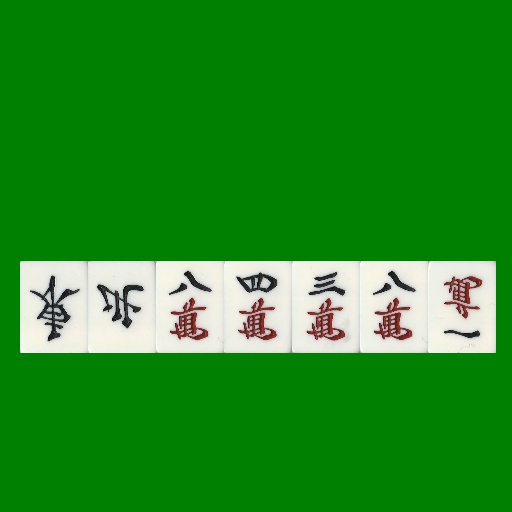1m: (428, 261, 496, 353)
3m: (292, 261, 360, 353)
4m: (224, 261, 292, 353)
8m: (156, 261, 224, 353), (360, 261, 428, 353)
east: (20, 261, 88, 353)
north: (88, 261, 156, 353)
